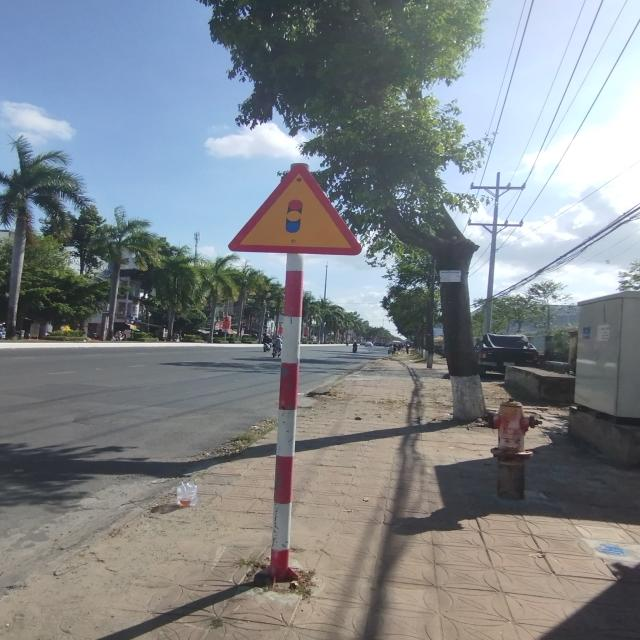Duong_Co_Go_Giam_Toc: (227, 164, 362, 256)
